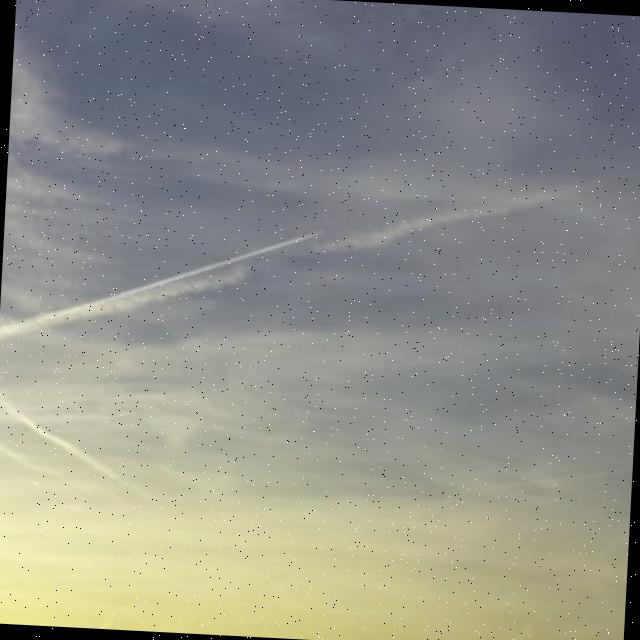Ct: (1, 32, 640, 554)
